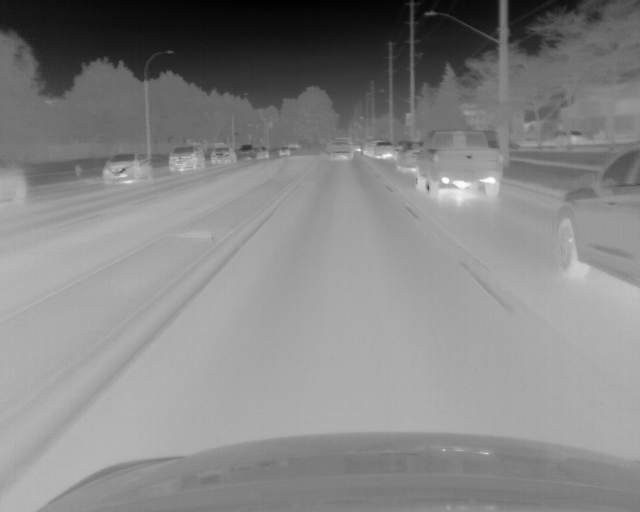car: (555, 149, 640, 290), (416, 129, 503, 198), (104, 153, 150, 182), (1, 161, 30, 206), (169, 145, 205, 172), (396, 142, 418, 171), (329, 140, 354, 158), (210, 147, 234, 164), (371, 141, 391, 158), (239, 145, 257, 158), (279, 146, 291, 156)
